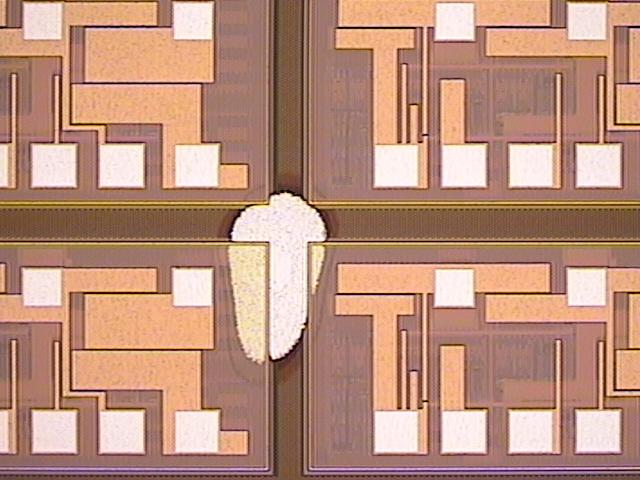BLOCK ETCH: (216, 174, 344, 392)
